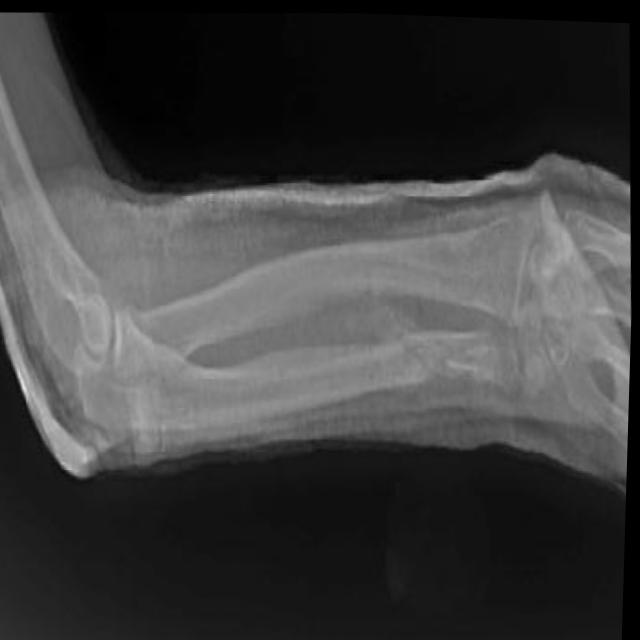fracture: (391, 313, 468, 414)
